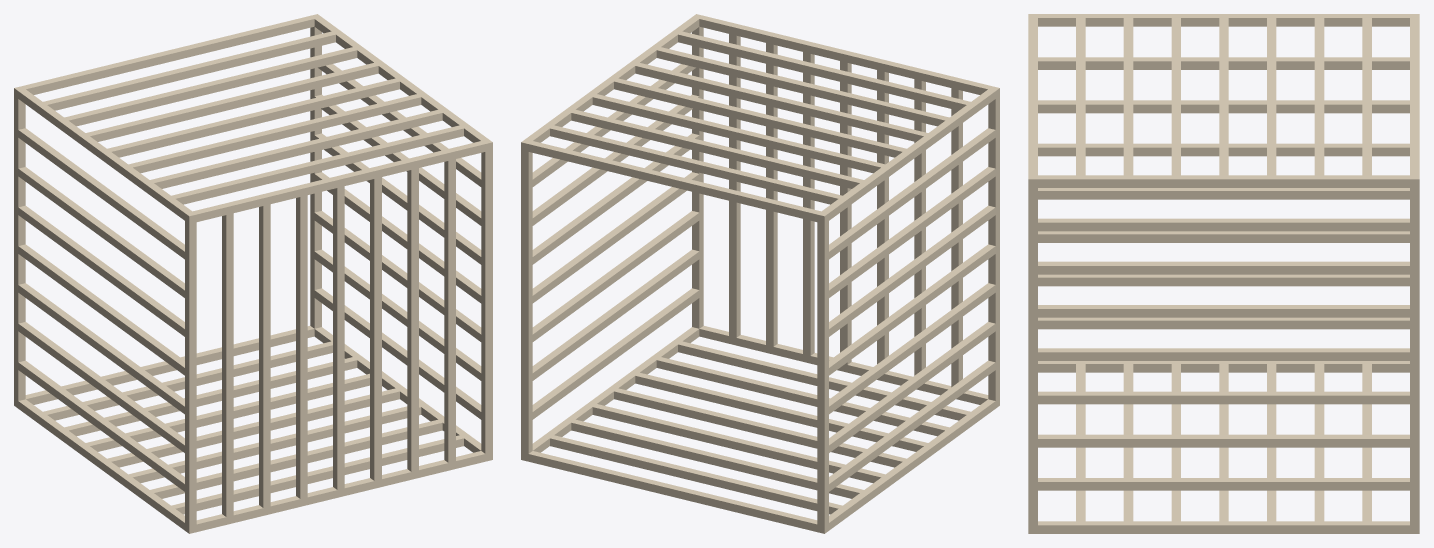
The model's file is SM_Net_A1_ML.obj.
The picture shows the model from 3 angles, left to right: view 1: azimuth 30°, elevation 25°; view 2: azimuth 150°, elevation 25°; view 3: azimuth 270°, elevation 25°; orthographic projection. The views are drawn at different scales.
Size of the model in its own units: 4.1 by 4.1 by 4.1.
1 material, 1 textured.
